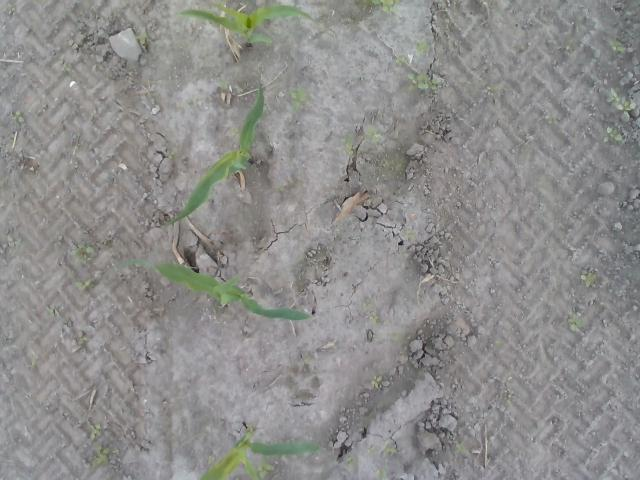Maize: (168, 83, 264, 224), (114, 257, 311, 320), (198, 426, 320, 480), (178, 0, 314, 47)
Weeds: (606, 87, 638, 121), (407, 70, 442, 90), (71, 243, 96, 264), (370, 0, 400, 13), (362, 301, 380, 322), (93, 445, 111, 464), (604, 126, 625, 142), (255, 462, 272, 480), (72, 278, 96, 290), (413, 38, 430, 53), (290, 88, 304, 106), (580, 271, 594, 288), (135, 30, 149, 47), (88, 423, 102, 440), (568, 318, 586, 330), (341, 136, 352, 155), (610, 40, 626, 52), (345, 456, 358, 470), (12, 110, 26, 122), (370, 129, 382, 141), (370, 374, 382, 386), (384, 446, 398, 456), (395, 55, 407, 66), (374, 470, 387, 480), (78, 336, 88, 346), (230, 128, 240, 138)
